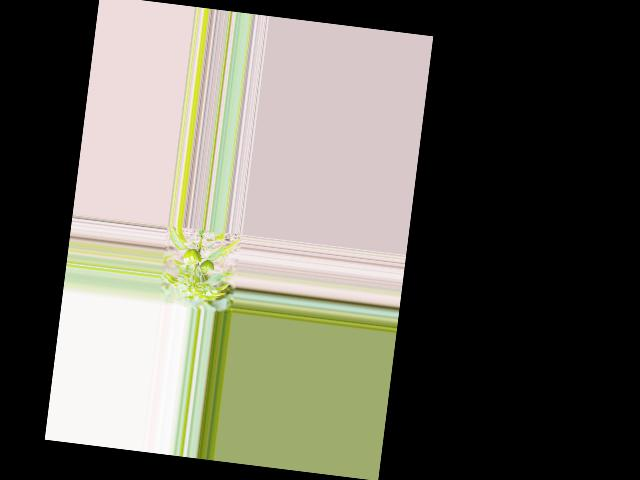bell_pepper: (199, 258, 215, 274)
